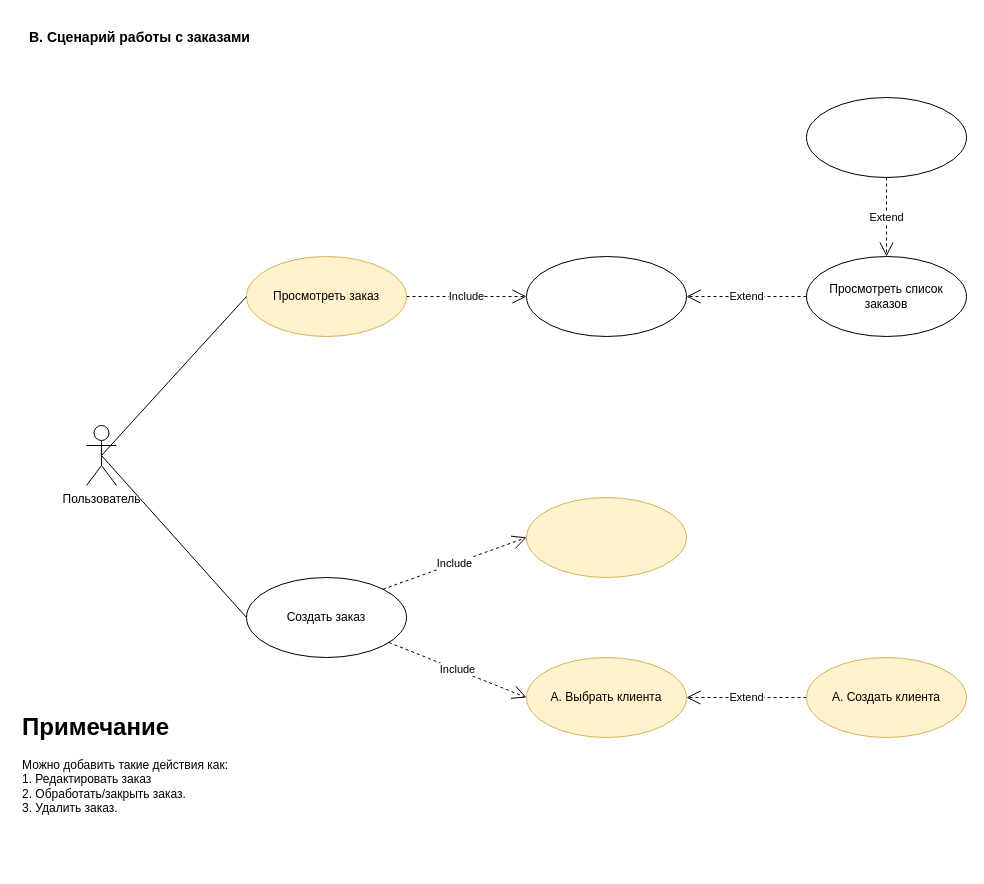
Image size: 984x884. Some labels were removed from this diagram. The centre of each missing label's shape, as x and y in pixels:
Выбрать услугу: pixel 606 537
Найти заказ: pixel 606 296
Просмотреть список заказов по клиенту: pixel 886 137
